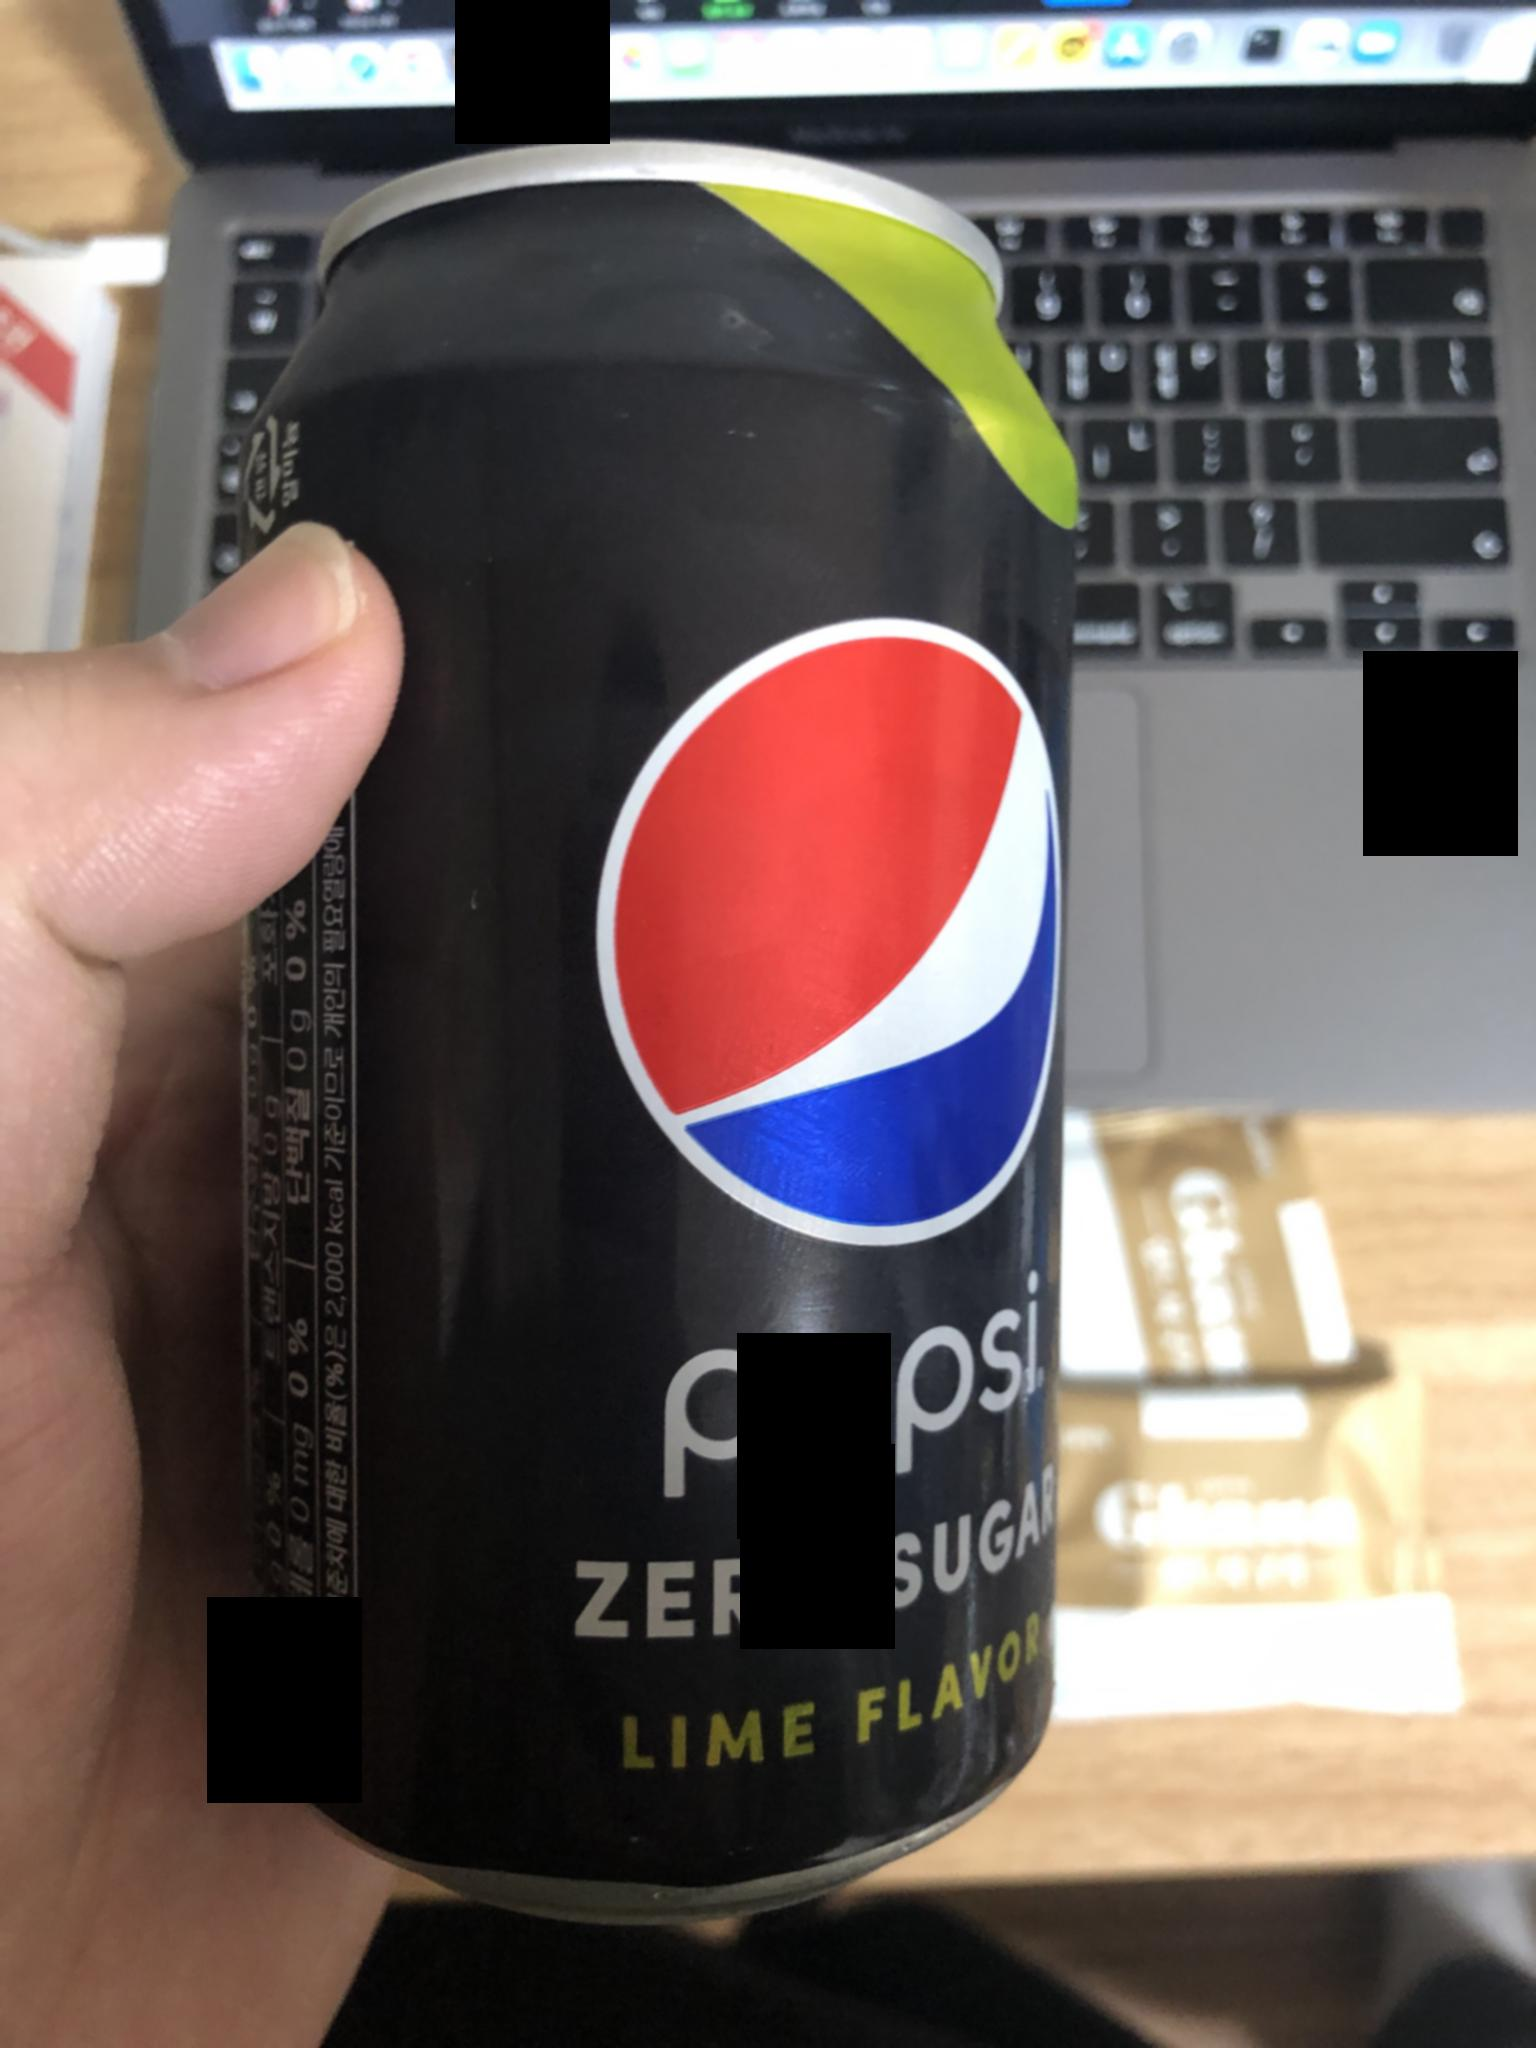pepsi_zero: (236, 147, 1102, 1903)
